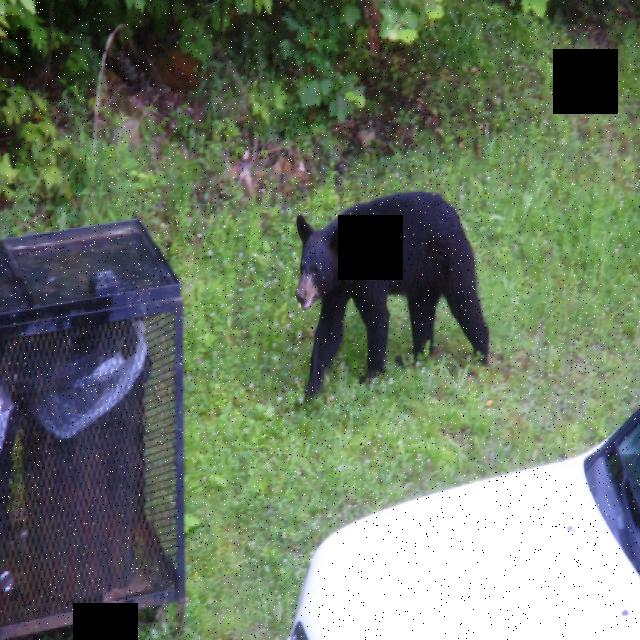Bear: (294, 185, 498, 378)
